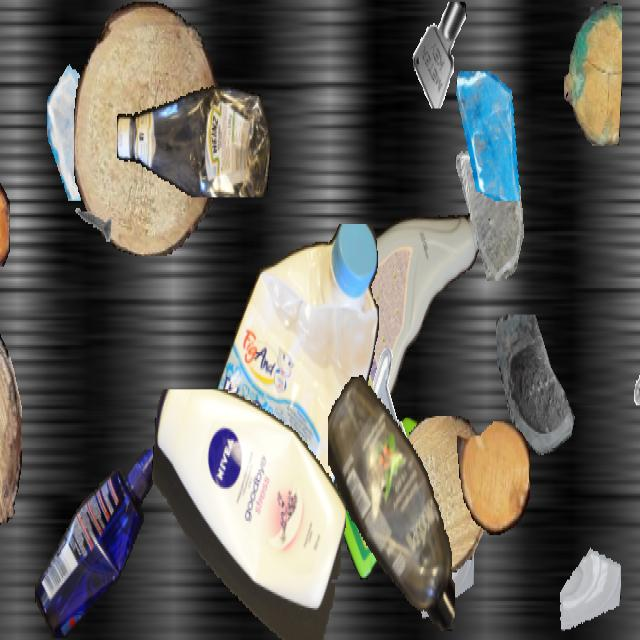glass: (493, 314, 587, 482), (47, 51, 131, 201), (453, 149, 527, 281), (453, 71, 525, 199), (215, 354, 277, 464), (559, 526, 621, 636), (417, 517, 473, 617)
metal: (361, 345, 423, 455), (411, 2, 471, 108), (72, 188, 112, 260), (623, 348, 640, 434)
plastic: (196, 224, 382, 590), (150, 390, 346, 638), (308, 203, 482, 430), (328, 372, 454, 638), (34, 450, 164, 638), (117, 76, 271, 198), (334, 416, 444, 580)
wood: (74, 2, 218, 254), (391, 416, 489, 572), (564, 2, 622, 144), (457, 421, 529, 535), (0, 290, 21, 524), (0, 183, 9, 272)
